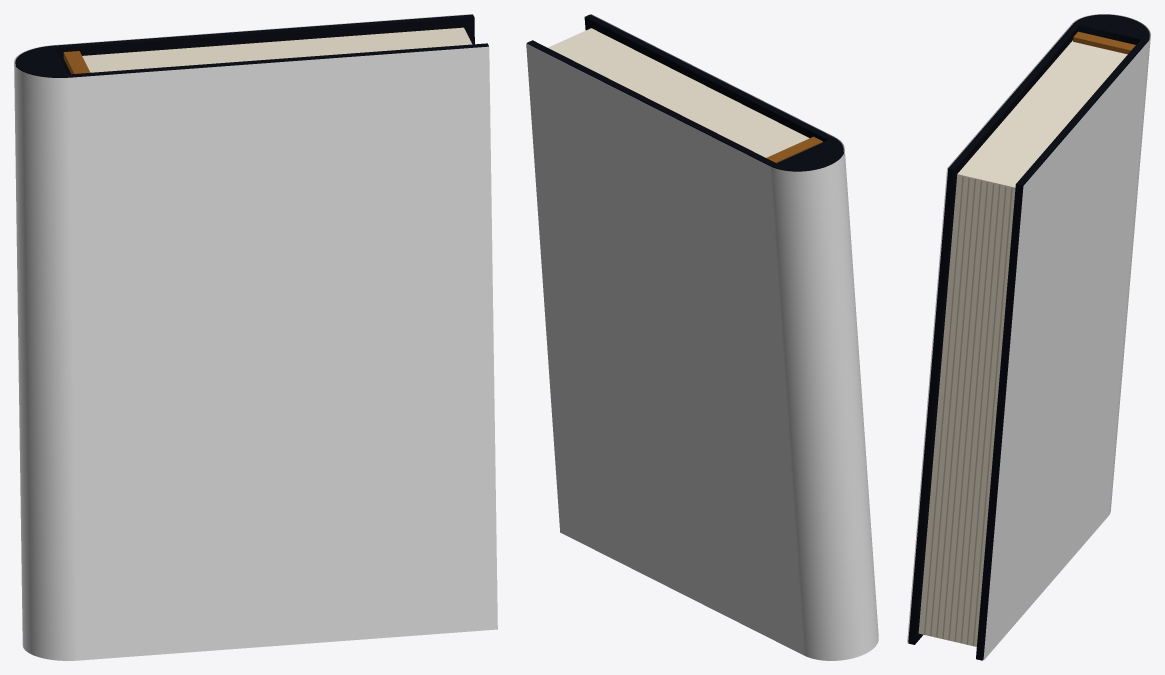
The model's file is the-life-youre-building.obj.
The picture shows the model from 3 angles, left to right: view 1: azimuth 30°, elevation 25°; view 2: azimuth 150°, elevation 25°; view 3: azimuth 270°, elevation 25°; orthographic projection. The views are drawn at different scales.
Visible parts, largest first — view 1: front_cover_art, spine_art, pages, back_board, front_board, spine_board; view 2: back_cover_art, spine_art, pages, front_board, back_board, spine_board; view 3: back_cover_art, pages, front_board, back_board, spine_board, spine_art, front_cover_art, page_line_5, page_line_4, page_line_1, page_line_2, page_line_3 (+5 smaller).
Boxes of the visible parts, x1,y1,x2,y2 form: front_cover_art: (70, 46, 497, 660); spine_art: (14, 45, 78, 660); pages: (82, 27, 472, 72); back_board: (54, 14, 474, 74); front_board: (68, 43, 488, 77); spine_board: (15, 45, 69, 77); back_cover_art: (526, 43, 803, 655); spine_art: (770, 137, 878, 660); pages: (548, 28, 809, 157); front_board: (584, 14, 833, 141); back_board: (527, 40, 775, 166); spine_board: (771, 137, 843, 171); back_cover_art: (983, 42, 1148, 660); pages: (918, 40, 1127, 646); front_board: (908, 24, 1079, 644); back_board: (976, 39, 1147, 660); spine_board: (1073, 14, 1149, 44); spine_art: (1072, 14, 1150, 515); front_cover_art: (907, 24, 1071, 642); page_line_5: (948, 181, 988, 640); page_line_4: (954, 183, 994, 641); page_line_1: (972, 187, 1012, 645); page_line_2: (966, 186, 1006, 644); page_line_3: (960, 184, 1000, 643).
Size of the model in its own units: 0.1767 by 0.2307 by 0.1046.
